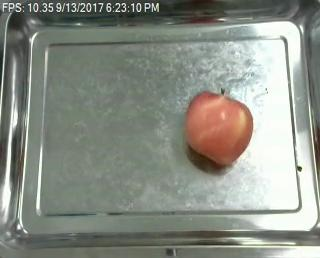apple: (183, 88, 254, 166)
